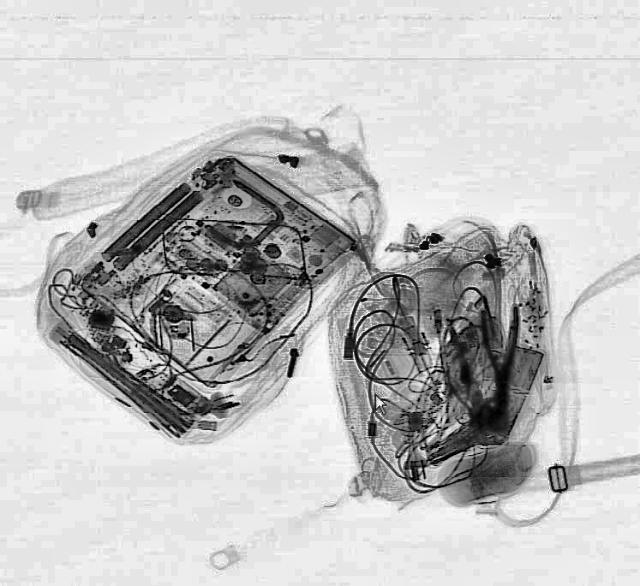Pliers: (478, 306, 520, 402)
